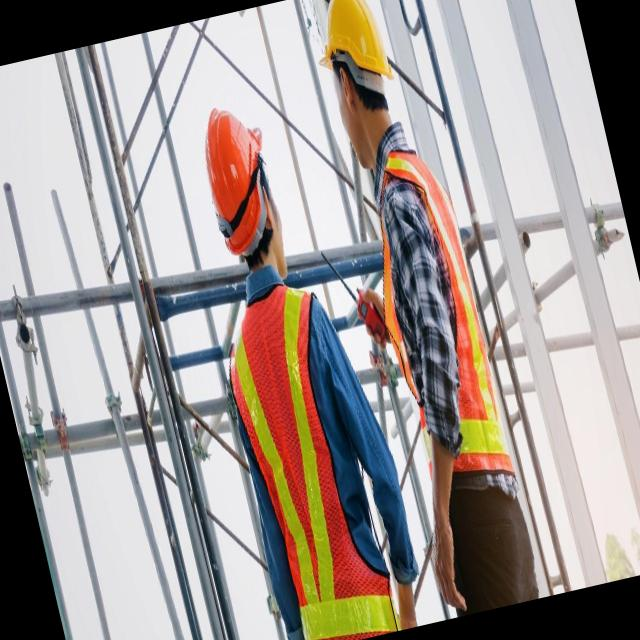helmet: (190, 95, 292, 268), (297, 0, 405, 95)
vest: (216, 275, 427, 640), (344, 135, 532, 512)
